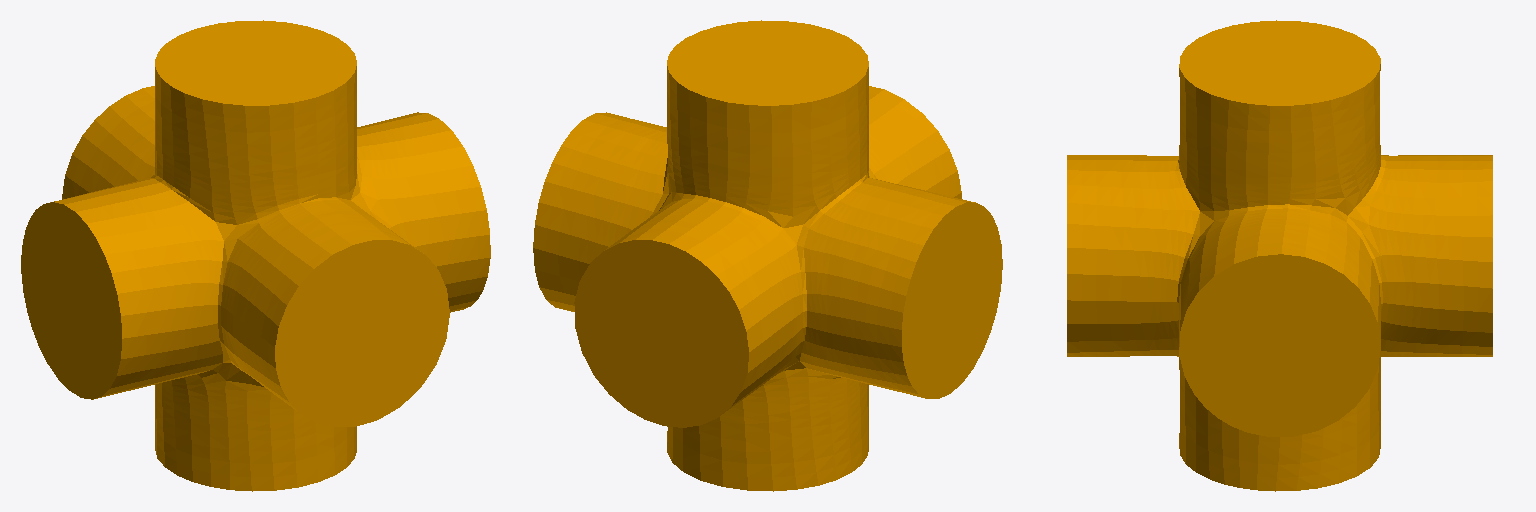
The robot description file, URDF, robot "object":
<robot name="object">
  <link name="object">
    <visual>
      <origin xyz="0 0 0"/>
      <geometry>
        <mesh filename="visual.obj" scale="1 1 1"/>
      </geometry>
    </visual>
    <collision>
      <origin xyz="0 0 0"/>
      <geometry>
        <mesh filename="visual.obj" scale="1 1 1"/>
      </geometry>
    </collision>
    <inertial>
      <mass value="0.05"/>
      <inertia ixx="4.2513333008652315e-05" iyy="4.25316147776392e-05" izz="4.252037475905752e-05" ixy="1.961327762100927e-10" ixz="2.2859126141876654e-09" iyz="-7.034749642331899e-09"/>
    </inertial>
  </link>
</robot>

--- What the picture shows (computed from the rendered views, not written in the file) ---
The picture shows the robot from 3 angles, left to right: view 1: azimuth 30°, elevation 25°; view 2: azimuth 150°, elevation 25°; view 3: azimuth 270°, elevation 25°; orthographic projection.
Robot: object — 1 links, 0 joints (none); root link object; default pose: every joint at zero.
Links seen in each view (by area): view 1: object; view 2: object; view 3: object.
Boxes of the visible links, x1,y1,x2,y2 form: object: [21, 20, 490, 491]; object: [533, 20, 1002, 491]; object: [1067, 20, 1492, 491].
Size in the robot's own frame: 0.096 by 0.096 by 0.096 metres.
Meshes: 1 distinct files referenced, 1 mesh visuals loaded (1 OBJ).
